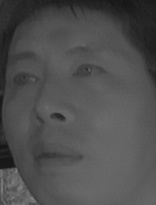eye: (70, 59, 109, 86), (9, 68, 39, 91)
mouth: (29, 140, 82, 172)
